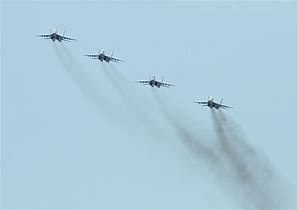smoke: (208, 110, 291, 209), (177, 124, 216, 170), (55, 43, 82, 88), (103, 64, 128, 102)
